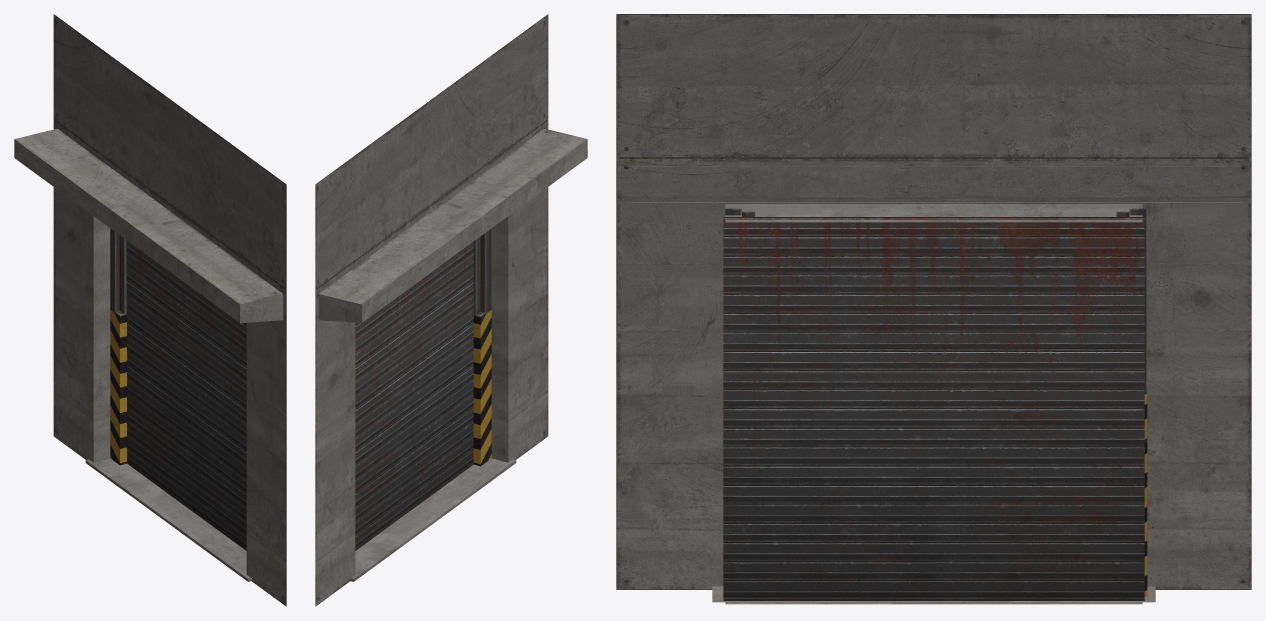
File: CP_Wall_Roller_Shutters_03.fbx
3 views of the same model, side by side, from view 1: azimuth 30°, elevation 25°; view 2: azimuth 150°, elevation 25°; view 3: azimuth 270°, elevation 25° (orthographic). The views are drawn at different scales.
Visible parts, largest first — view 1: CP_Wall_Roller_Shutters_03; view 2: CP_Wall_Roller_Shutters_03; view 3: CP_Wall_Roller_Shutters_03.
Boxes of the visible parts, <box> form: CP_Wall_Roller_Shutters_03: <box>14,14,286,606</box>; CP_Wall_Roller_Shutters_03: <box>315,14,587,606</box>; CP_Wall_Roller_Shutters_03: <box>616,14,1251,604</box>.
Bounding box in the file's own units: 69.9 × 400 × 400.
